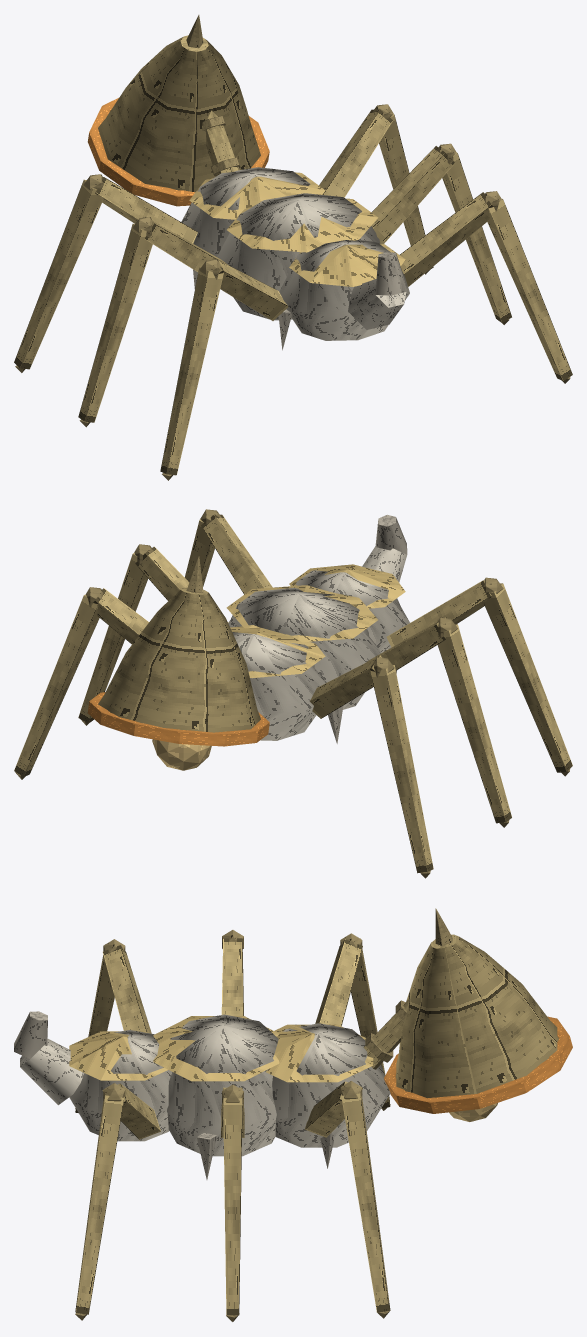
File: enemy_snuffer.gltf
The picture shows the model from 3 angles, top to bottom: view 1: azimuth 30°, elevation 25°; view 2: azimuth 150°, elevation 25°; view 3: azimuth 270°, elevation 25°; orthographic projection. The views are drawn at different scales.
Visible parts, largest first — view 1: body, cap, leg_r2, leg_l2, leg_l0, leg_l1, leg_r1, leg_r0, tail, rim, neck; view 2: body, cap, leg_l0, leg_l2, leg_l1, leg_r0, leg_r1, leg_r2, rim, tail, wick; view 3: body, cap, leg_r2, leg_r0, leg_r1, rim, leg_l0, tail, leg_l2, leg_l1, neck.
Part boxes in pixels (x1,y1,x2,y2): body: (181, 167, 409, 350); cap: (98, 15, 260, 192); leg_r2: (400, 191, 572, 383); leg_l2: (160, 258, 288, 480); leg_l0: (14, 174, 197, 372); leg_l1: (78, 217, 228, 427); leg_r1: (371, 143, 511, 324); leg_r0: (319, 104, 433, 274); tail: (348, 252, 407, 329); rim: (87, 98, 269, 206); neck: (202, 110, 240, 176); body: (226, 564, 409, 743); cap: (98, 556, 260, 732); leg_l0: (310, 655, 433, 878); leg_l2: (386, 577, 572, 776); leg_l1: (366, 617, 511, 827); leg_r0: (14, 587, 148, 779); leg_r1: (78, 544, 228, 725); leg_r2: (184, 509, 272, 594); rim: (87, 692, 269, 746); tail: (362, 514, 407, 582); wick: (152, 739, 211, 770); body: (69, 1014, 390, 1179); cap: (395, 908, 558, 1098); leg_r2: (75, 1083, 160, 1320); leg_r0: (304, 1081, 390, 1318); leg_r1: (221, 1084, 244, 1321); rim: (384, 1016, 572, 1113); leg_l0: (315, 933, 390, 1110); tail: (14, 1011, 84, 1105); leg_l2: (75, 939, 151, 1112); leg_l1: (221, 930, 243, 1015); neck: (363, 1000, 408, 1069).
Size of the model in its own units: 2.43 by 1.6 by 2.6.
12 materials, 12 textured.
